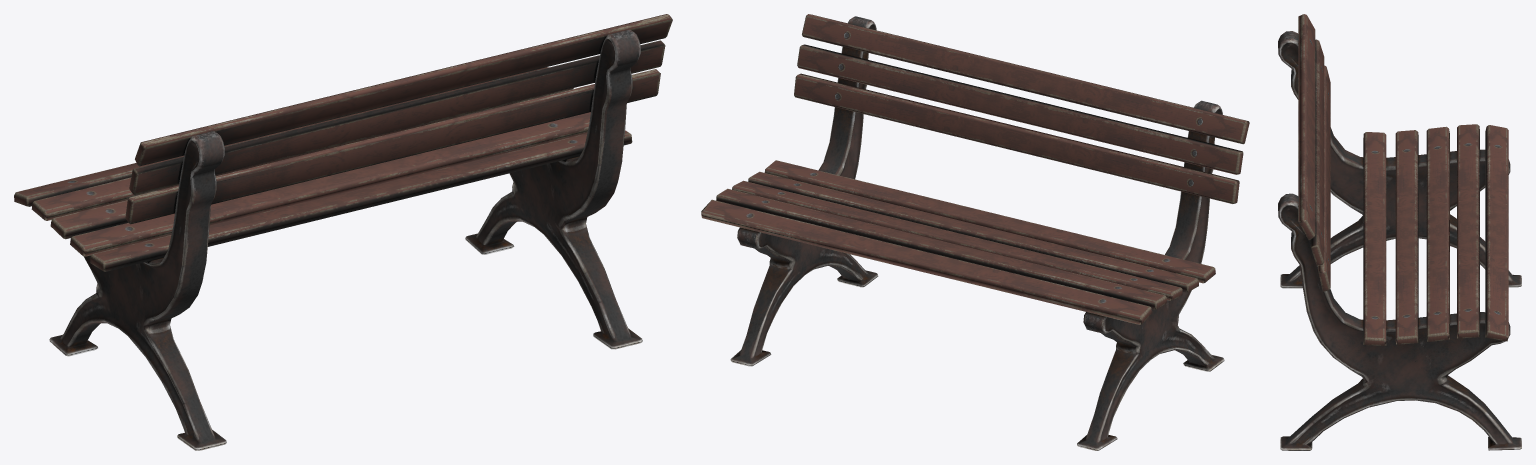
The model's file is Bench.fbx.
3 views of the same model, side by side, from view 1: azimuth 30°, elevation 25°; view 2: azimuth 150°, elevation 25°; view 3: azimuth 270°, elevation 25° (orthographic). The views are drawn at different scales.
Visible parts, largest first — view 1: Polygon_1; view 2: Polygon_1; view 3: Polygon_1.
Boxes of the visible parts, bbox=[...] form: Polygon_1: bbox=[14, 14, 672, 450]; Polygon_1: bbox=[701, 14, 1249, 450]; Polygon_1: bbox=[1278, 14, 1521, 450].
Bounding box in the file's own units: 150 × 83.61 × 74.55.
Materials: 1 (1 with a texture image).
